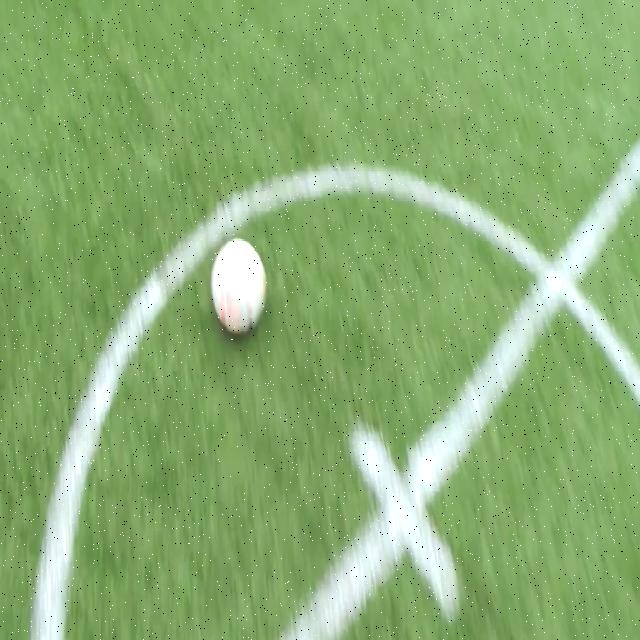ball: (325, 550, 405, 640), (210, 239, 266, 334)
